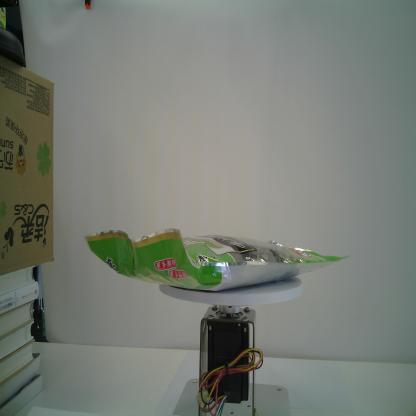Dried Food: (82, 227, 352, 291)
